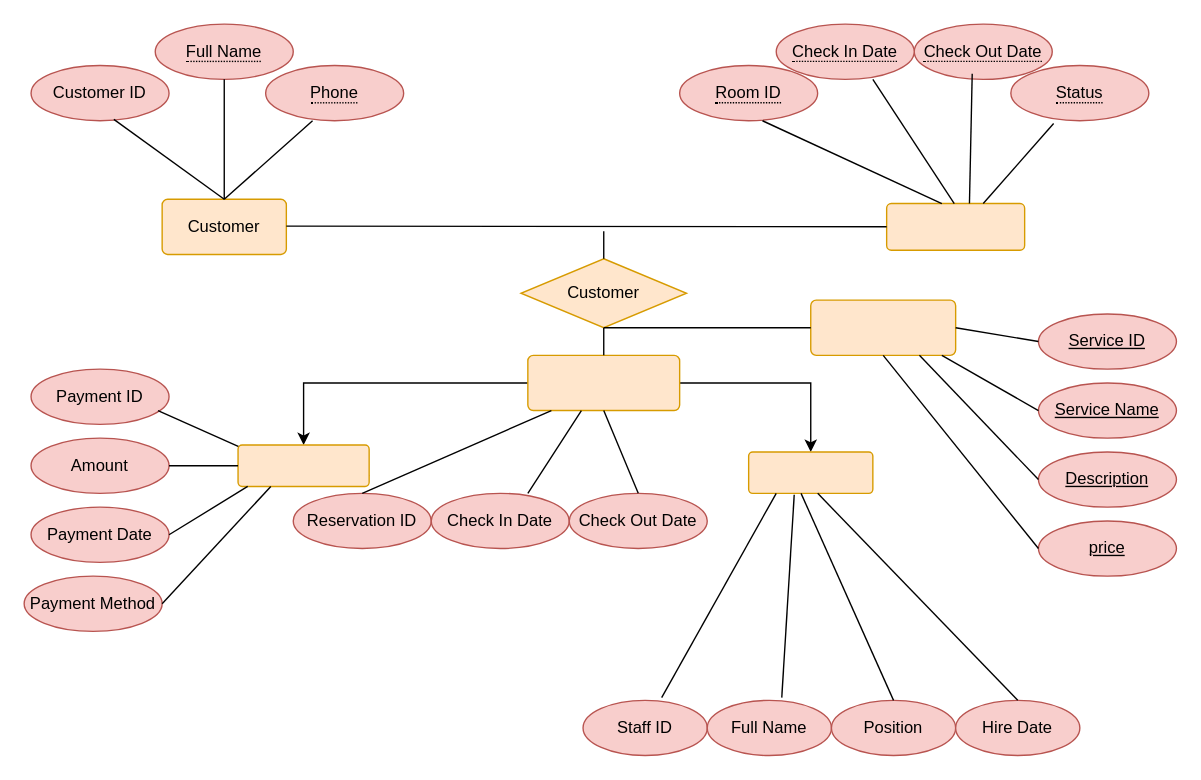
This 1201x780 diagram has some shape labels left out. Here are the shapes that lost their labels. From the top down, the centre of each, then its label:
At point (955, 226): "Room".
At point (882, 327): "Extra Service".
At point (603, 382): "Resvervation".
At point (303, 465): "Payment".
At point (810, 472): "Staff".
